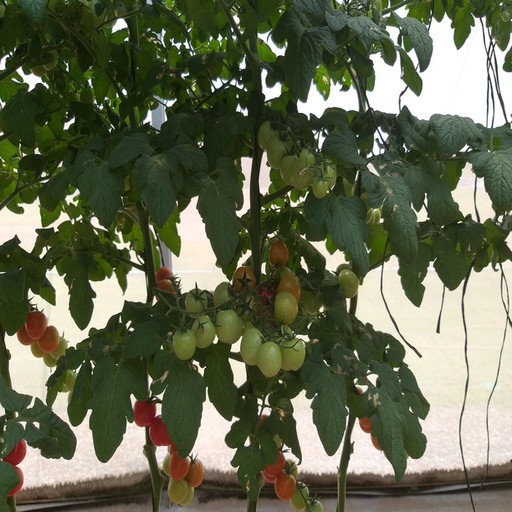green tomato bunch: (169, 241, 305, 374), (258, 118, 338, 197)
mixed tomato bunch: (250, 414, 327, 512), (134, 397, 203, 501), (14, 304, 85, 391)
